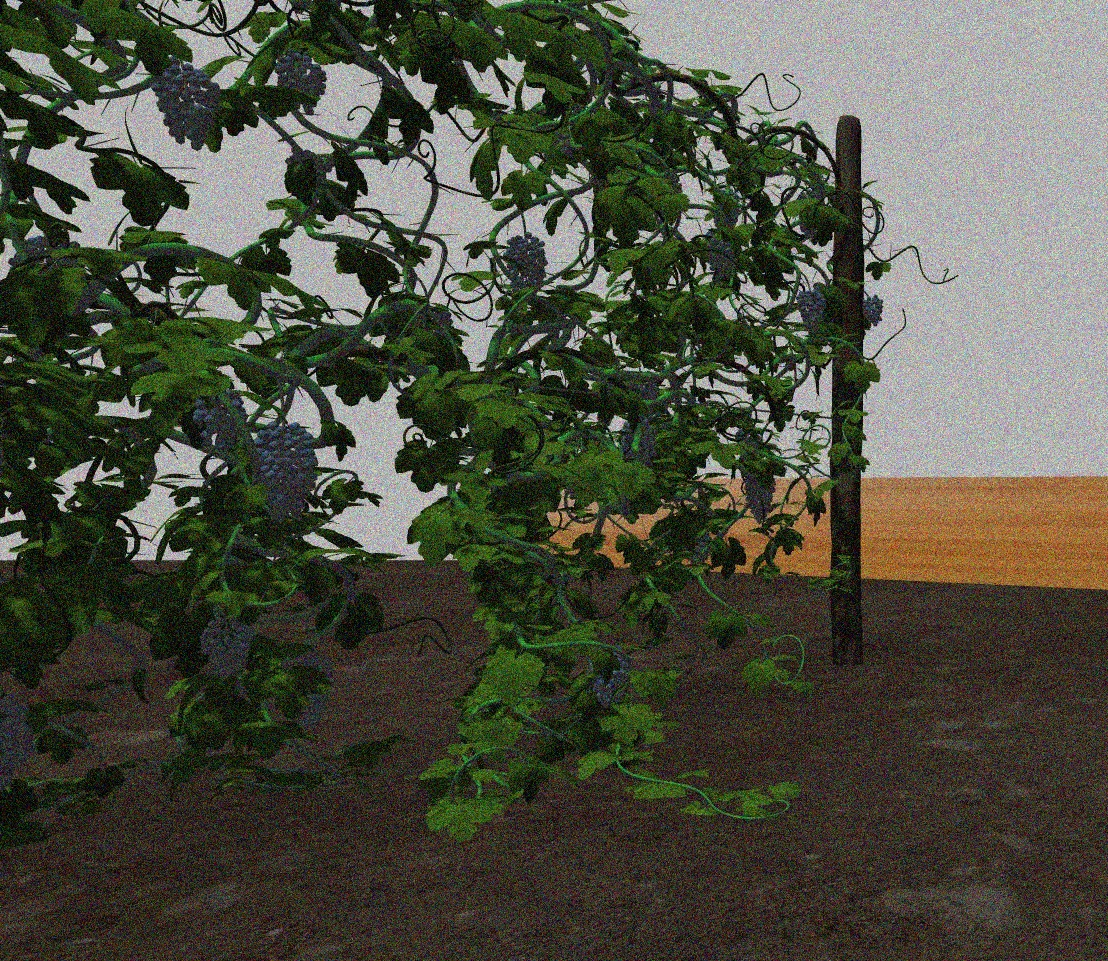grape: (253, 423, 318, 523), (153, 57, 220, 152), (199, 615, 255, 684), (291, 652, 337, 733), (193, 392, 248, 454), (275, 49, 328, 110), (503, 231, 549, 295), (3, 699, 34, 788), (587, 653, 628, 707), (744, 473, 778, 523), (795, 288, 828, 335), (707, 239, 737, 276), (859, 294, 886, 330)
